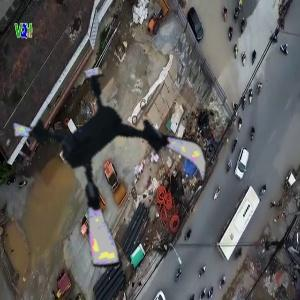drone: (11, 69, 210, 268)
